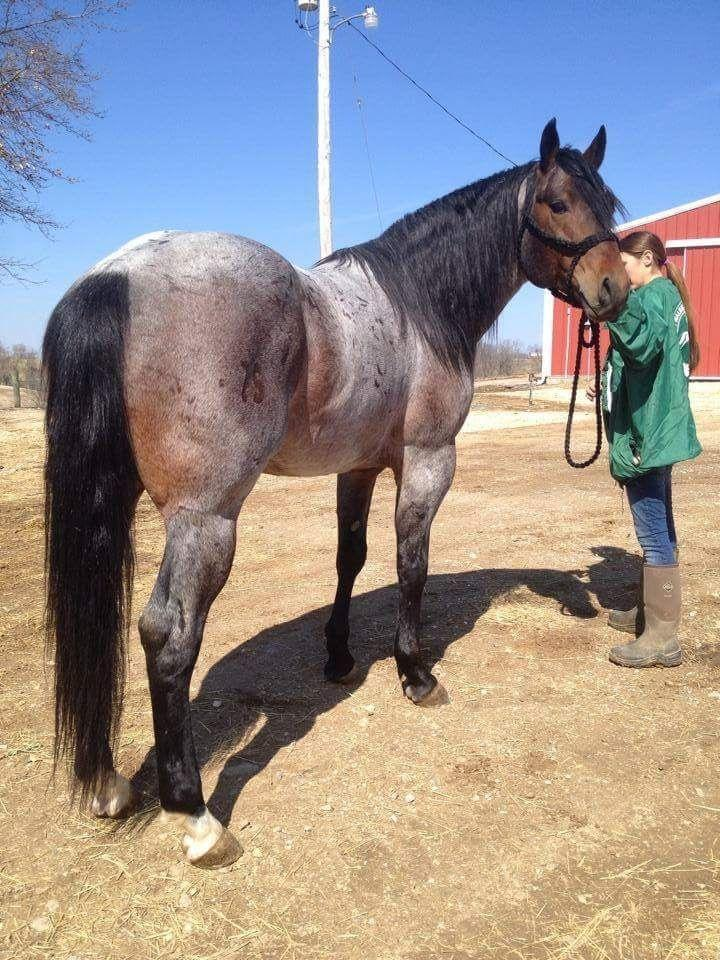horse: (38, 115, 631, 870)
